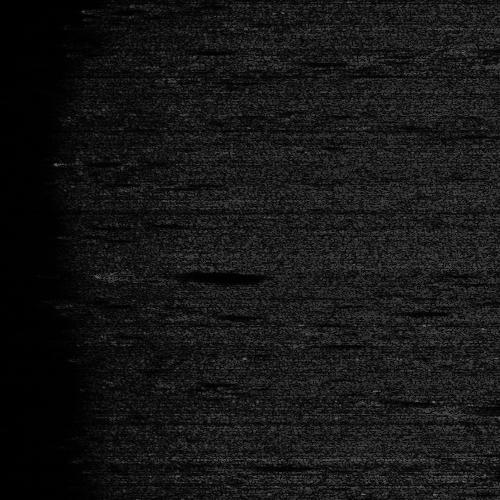object: (405, 402, 468, 413), (427, 42, 490, 51), (427, 470, 490, 477), (203, 448, 214, 477), (481, 60, 500, 65), (123, 272, 154, 275)
shadow: (209, 448, 234, 477), (437, 402, 500, 413), (139, 272, 269, 275), (458, 42, 500, 51), (458, 470, 500, 477)
